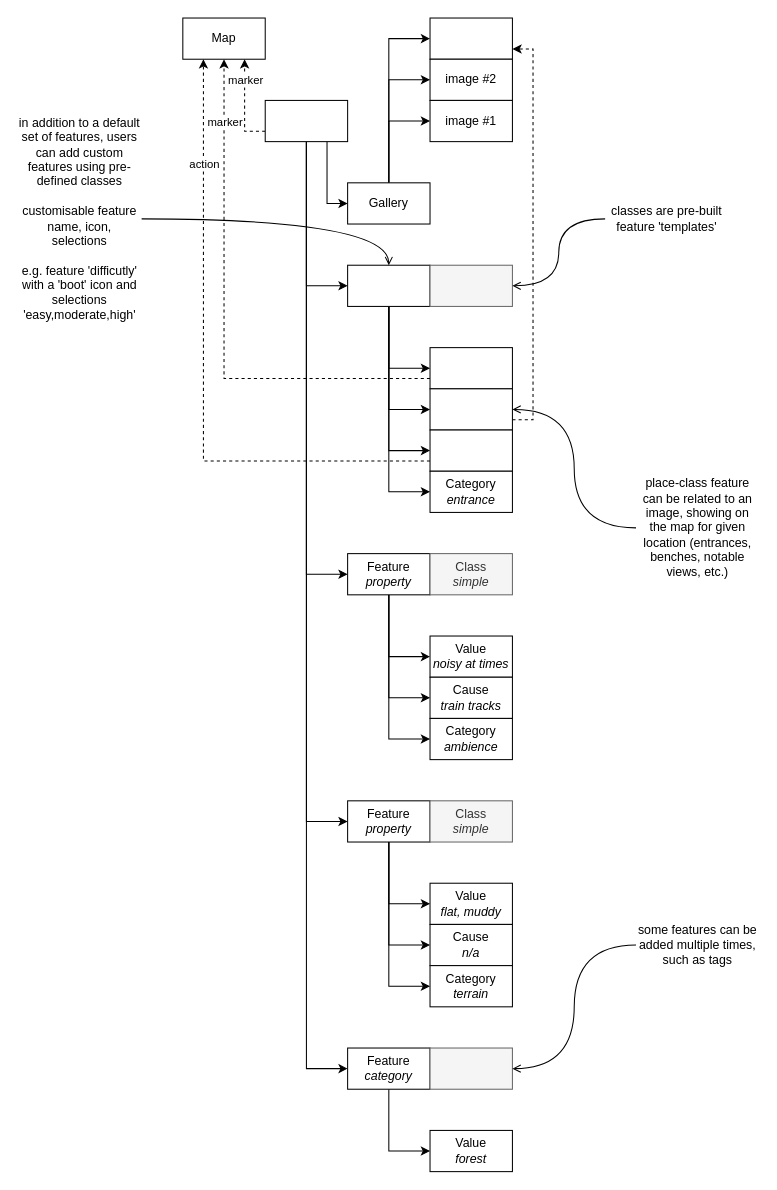
Some shapes in this 777 by 1190 pixel diagram are drawn without their labels. Each missing label, with the box of its shape:
Activity navigate: (429, 429, 512, 471)
Class coords: (429, 264, 512, 306)
Class tag: (429, 1047, 512, 1089)
Feature place: (347, 264, 430, 306)
image #3: (429, 17, 512, 59)
Location: (264, 99, 348, 142)
Relation image #3: (429, 388, 512, 430)
Value 54.57, -34.23: (429, 347, 512, 389)
